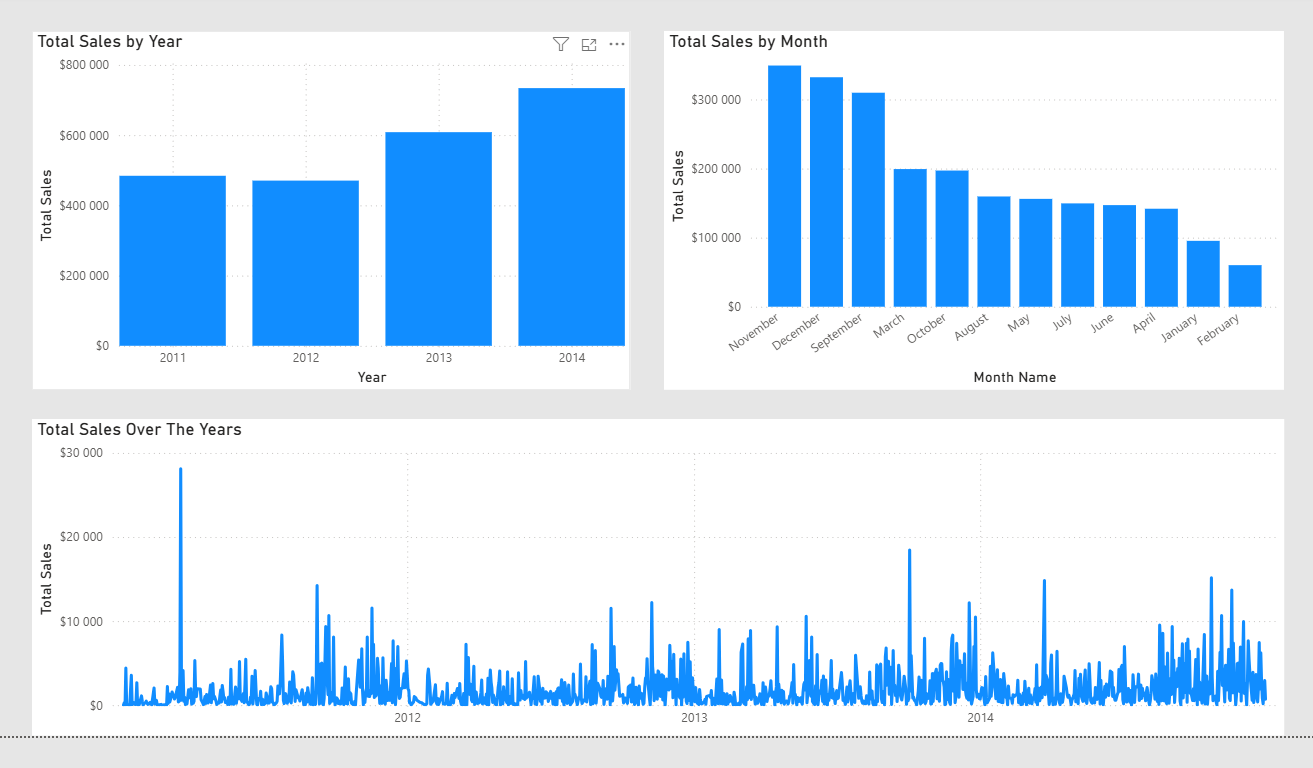

The page's visual inventory and layout, read from the dashboard file:
{"tool":"powerbi","page":{"name":"Trend","canvas":[1280,720],"ordinal":1},"visuals":[{"type":"columnChart","title":"Total Sales by Year","fields":{"Category":["DimDate.Year"],"Y":["FactOrders.Total Sales"]},"box":[32.1,34,581.6,349.2],"z":0},{"type":"columnChart","title":"Total Sales by Month","fields":{"Category":["DimDate.Month Name"],"Y":["FactOrders.Total Sales"]},"box":[646.8,34,603,349.2],"z":1000},{"type":"lineChart","title":"Total Sales Over The Years","fields":{"Y":["FactOrders.Total Sales"],"Category":["DimDate.Date.Odmiana.Hierarchia dat.Rok"]},"box":[32.1,411.4,1217.8,308.3],"z":2000}]}

Visuals, with their boxes on the page's 1280x720 design canvas (x1, y1, x2, y2). These are canvas units, not pixel positions in the 1313x768 screenshot, which may show the page scaled, cropped or inside an application window:
"Total Sales by Year" columnChart: (32,34,614,383)
"Total Sales by Month" columnChart: (647,34,1250,383)
"Total Sales Over The Years" lineChart: (32,411,1250,720)
